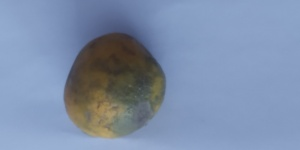BAD: (61, 30, 166, 140)
